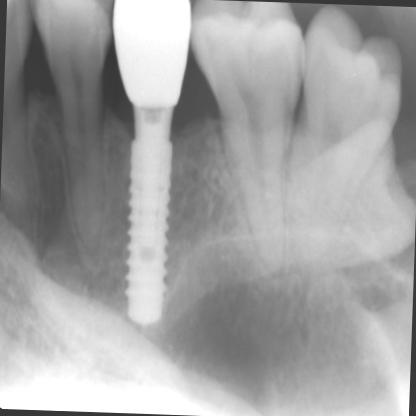ITI: (112, 109, 188, 340)
